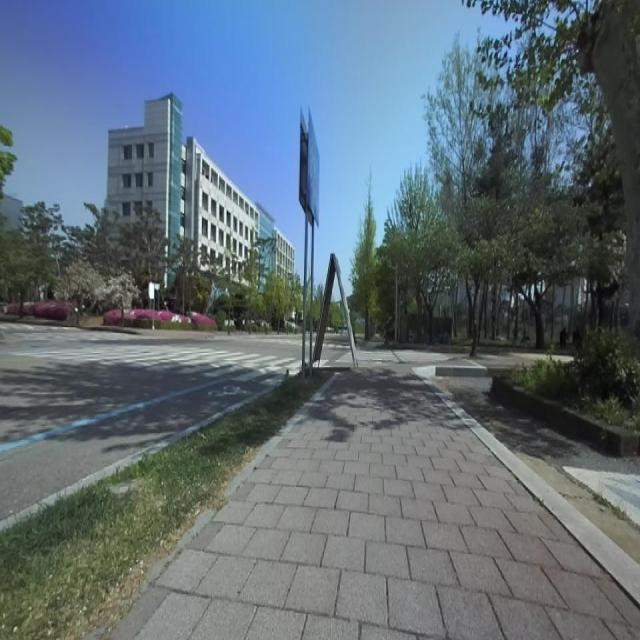sidewalk: (113, 364, 640, 639)
